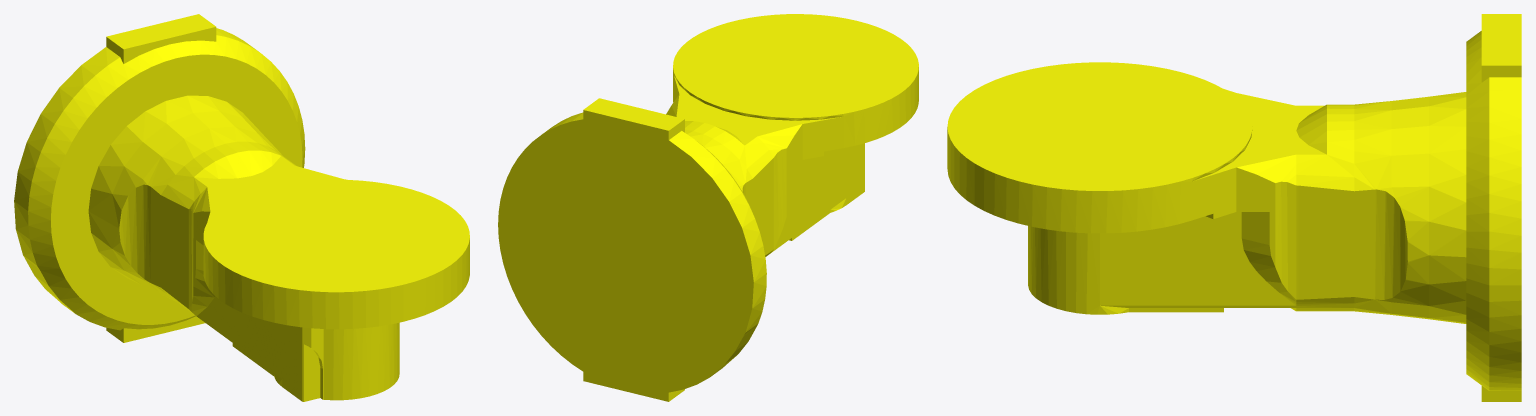
3 renders of one model, left to right at view 1: azimuth 30°, elevation 25°; view 2: azimuth 150°, elevation 25°; view 3: azimuth 270°, elevation 25°, orthographic. The views are drawn at different scales.
Visible parts, largest first — view 1: node; view 2: node; view 3: node.
Boxes of the visible parts, left/top/right/bottom form: node: left=14, top=14, right=469, bottom=401; node: left=498, top=14, right=918, bottom=401; node: left=947, top=14, right=1521, bottom=401.
Bounding box in the file's own units: 239 × 242 × 374.
